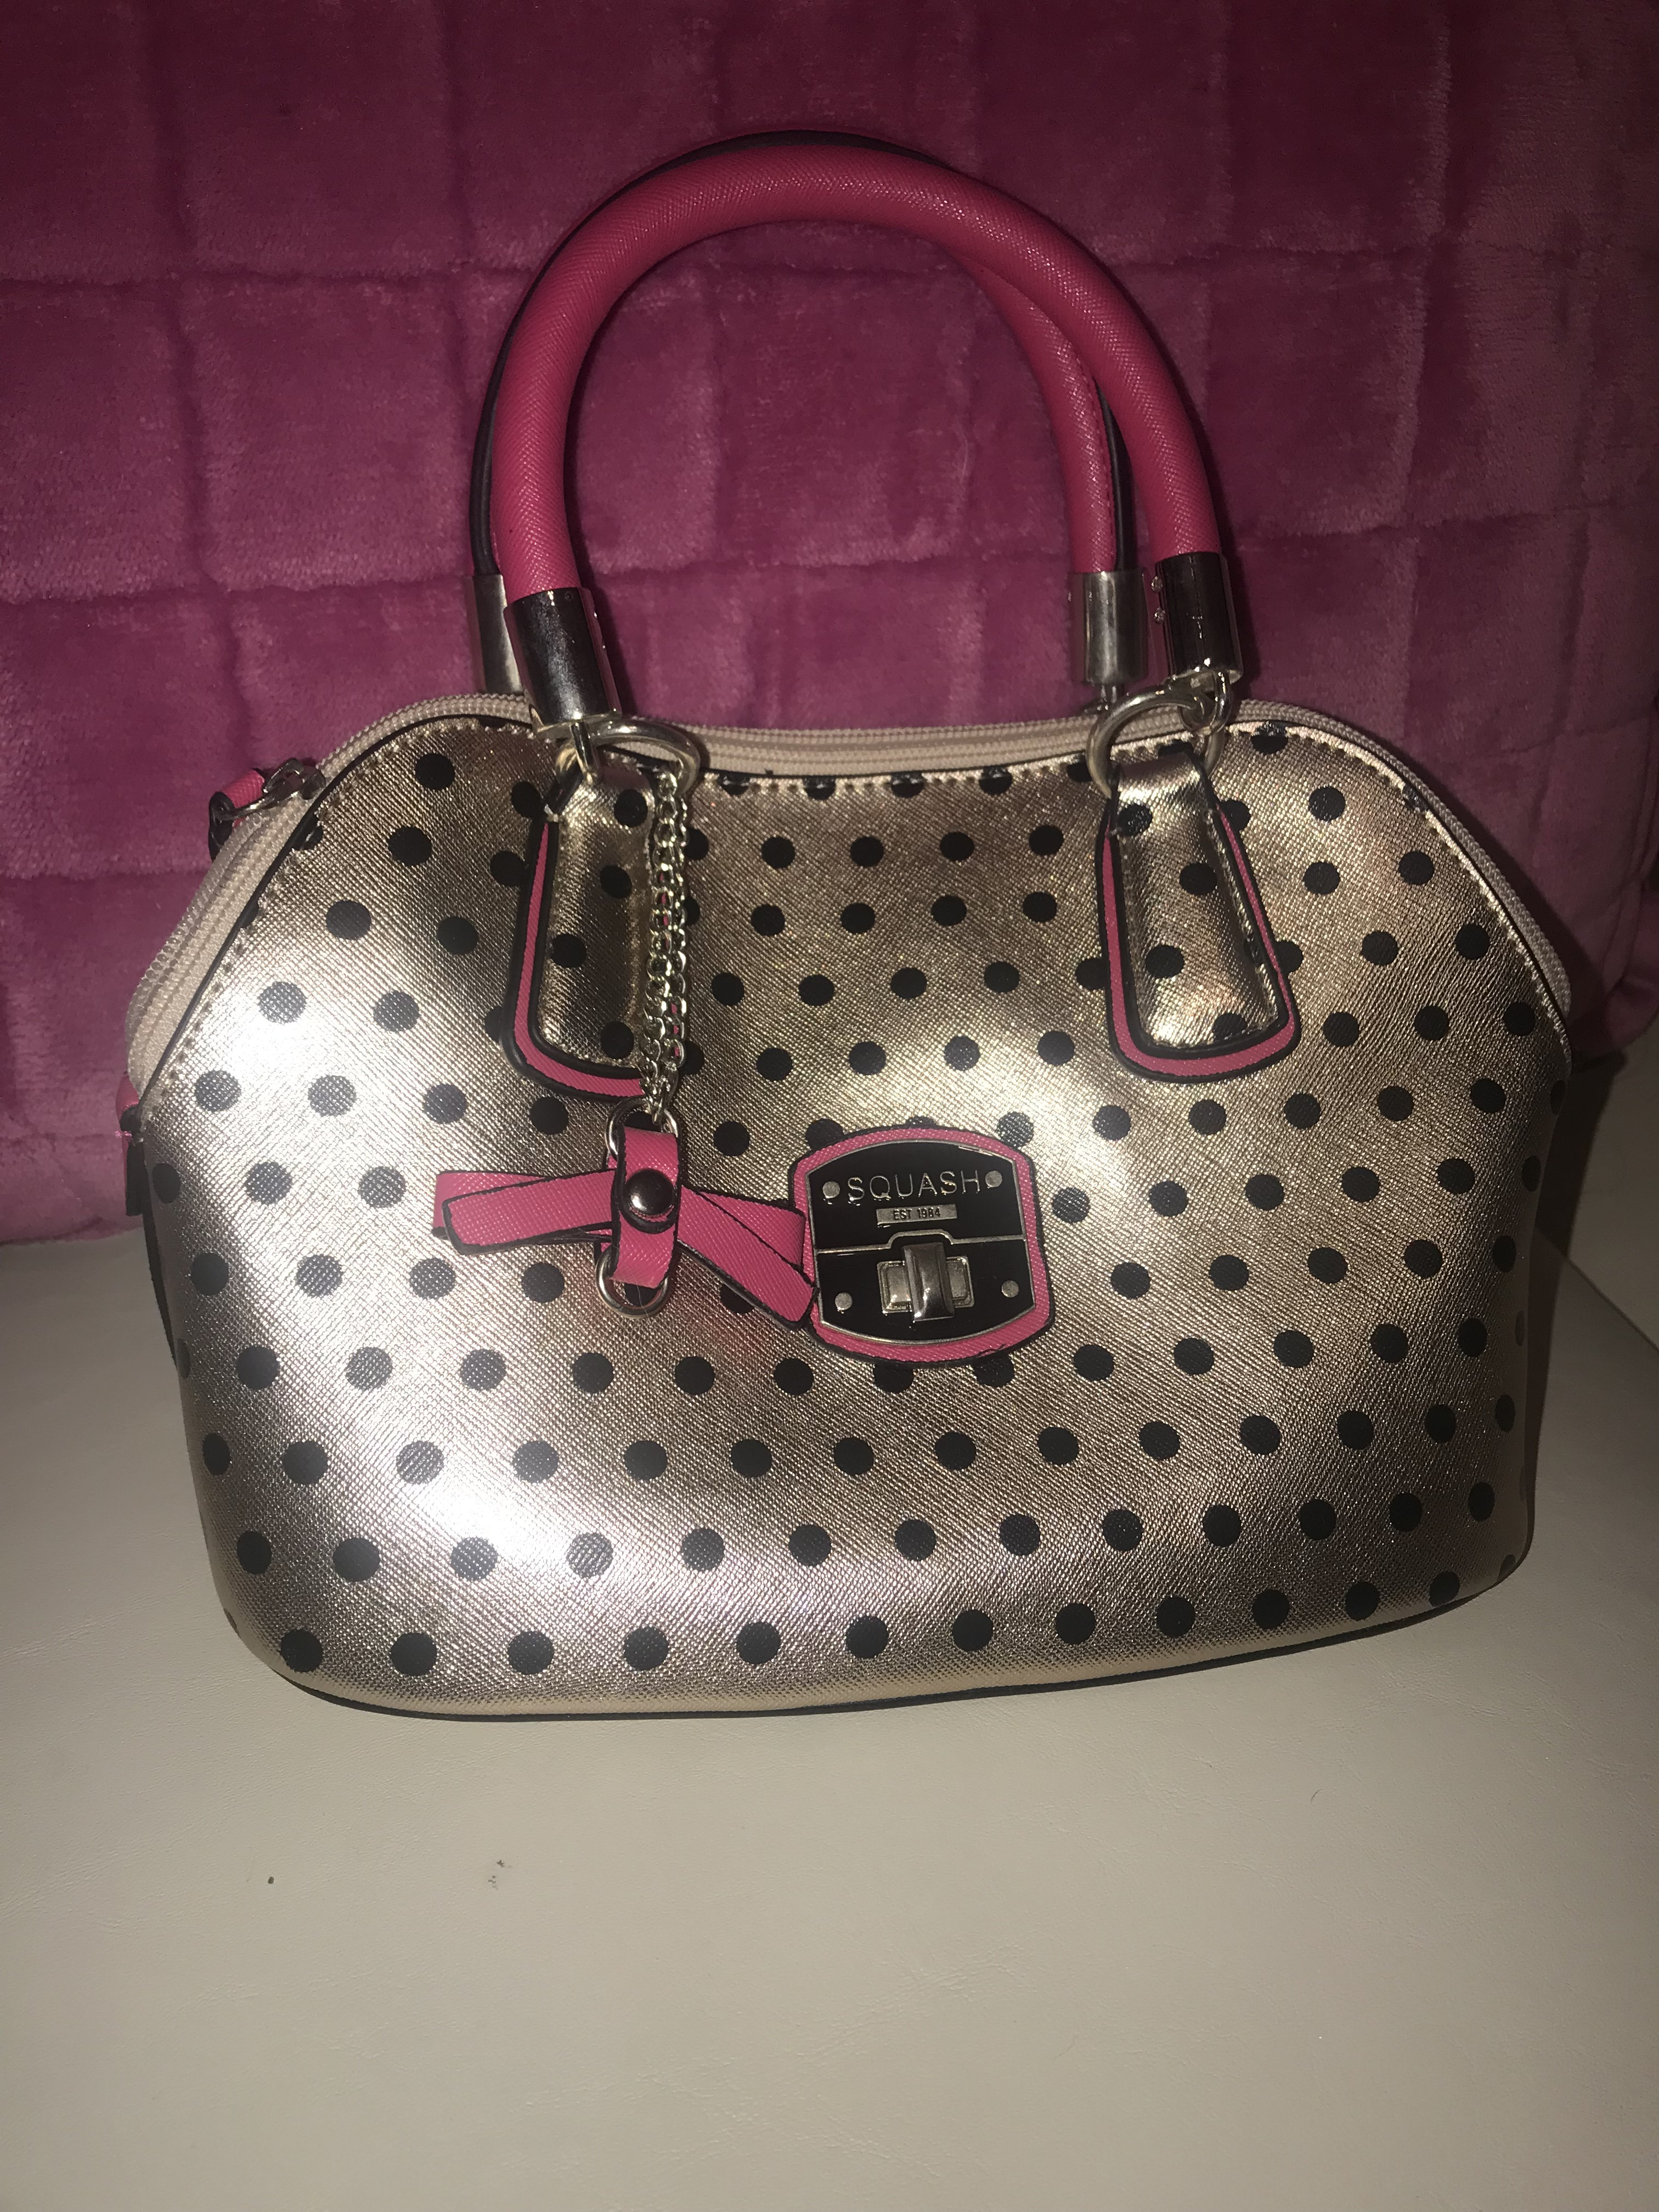cartera: (98, 124, 1588, 1730)
tela: (366, 1364, 634, 1632)
